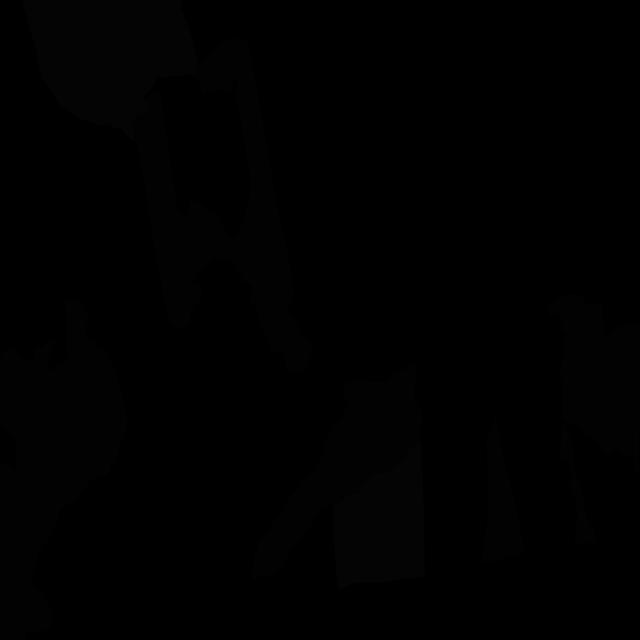cardboard: (133, 37, 314, 372), (252, 363, 423, 580), (0, 297, 128, 577), (548, 294, 640, 472), (0, 490, 52, 640), (482, 415, 525, 563), (558, 425, 597, 548)
soft_plastic: (23, 0, 198, 142), (333, 441, 425, 591)
